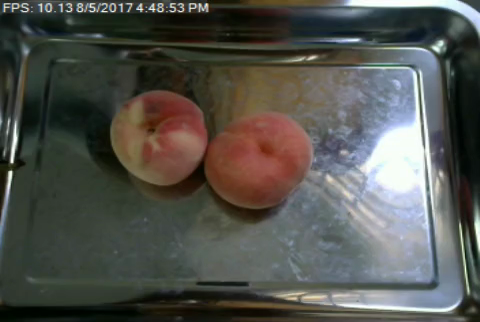Peach: (202, 109, 312, 206), (109, 87, 208, 187)
